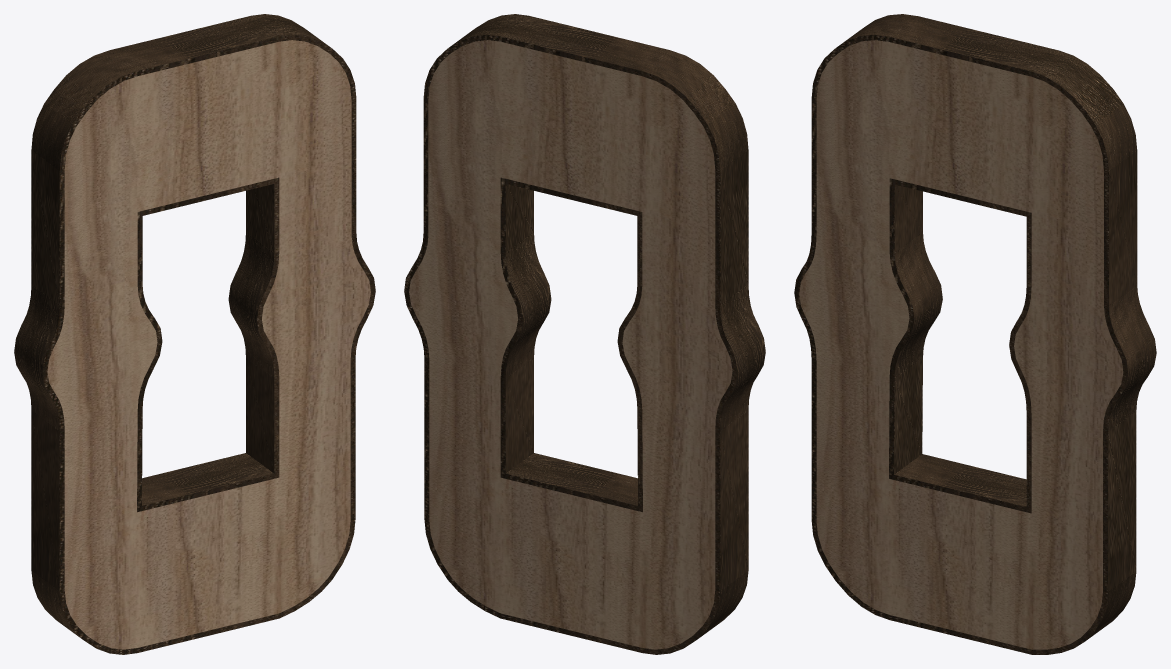
3 views of the same model, side by side, from view 1: azimuth 30°, elevation 25°; view 2: azimuth 150°, elevation 25°; view 3: azimuth 330°, elevation 25° (orthographic).
Parts seen in each view (by area): view 1: O, O_outline; view 2: O, O_outline; view 3: O, O_outline.
Boxes of the visible parts, <box> form: O: <box>47,40,370,649</box>; O_outline: <box>14,14,375,654</box>; O: <box>409,40,732,649</box>; O_outline: <box>404,14,765,654</box>; O: <box>799,40,1123,649</box>; O_outline: <box>794,14,1156,654</box>.
Bounding box in the file's own units: 67.82 × 113 × 10.
Materials: 2 (2 with a texture image).
